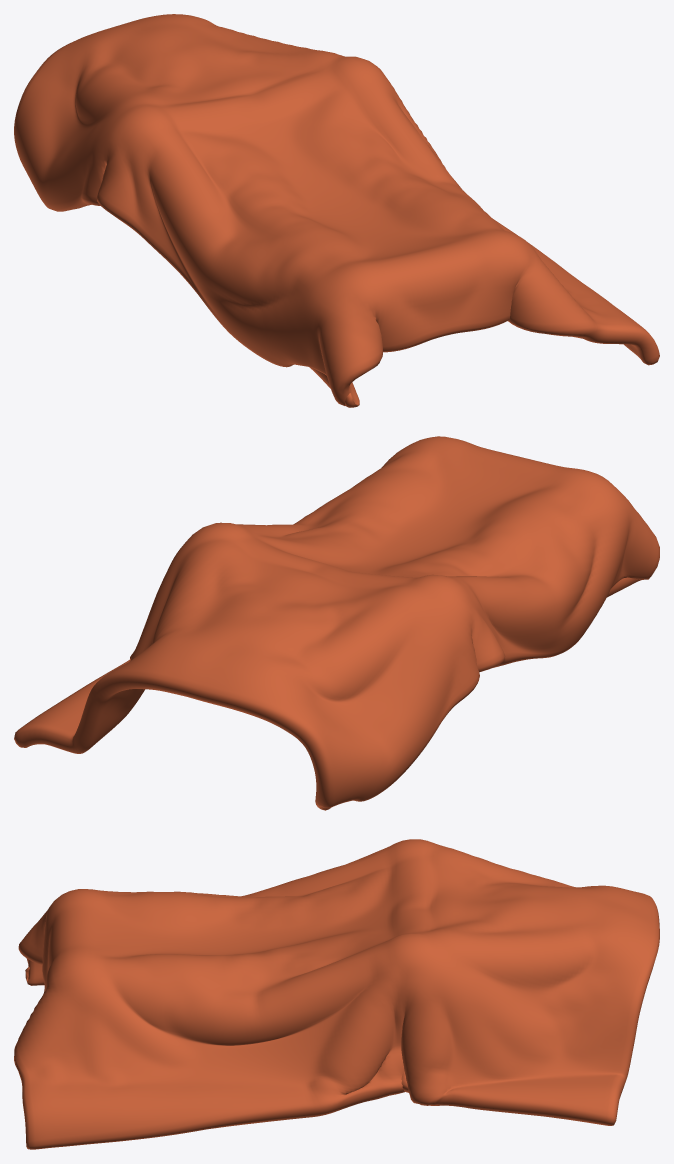
File: duvet.glb
The picture shows the model from 3 angles, top to bottom: view 1: azimuth 30°, elevation 25°; view 2: azimuth 150°, elevation 25°; view 3: azimuth 270°, elevation 25°; orthographic projection. The views are drawn at different scales.
Parts seen in each view (by area): view 1: Duvet; view 2: Duvet; view 3: Duvet.
Part boxes in pixels (x1,y1,x2,y2): Duvet: [14, 14, 659, 407]; Duvet: [14, 436, 659, 810]; Duvet: [14, 839, 659, 1149].
Size of the model in its own units: 0.956 by 0.445 by 1.55.
